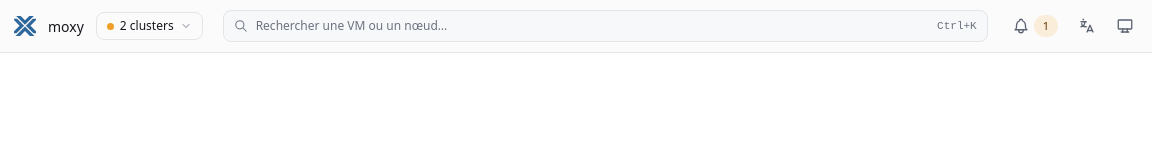
Test: TopBar › opens the alerts when the bell is clicked
The image size is (1152, 160).
Click the button named "Notifications" at [1035, 26], box 1008,11 -> 1062,41
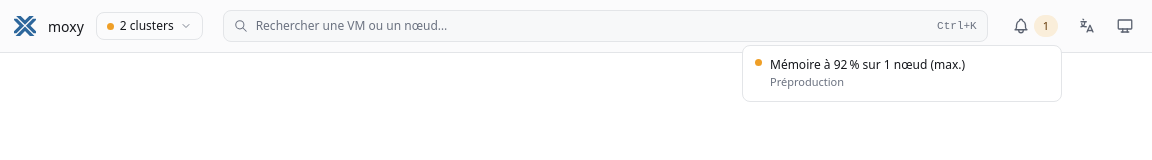
Expected: the menu named "Alertes" is shown, 742,45 -> 1062,102
Expected: the menu item shows "Préproduction", 747,50 -> 1057,96
